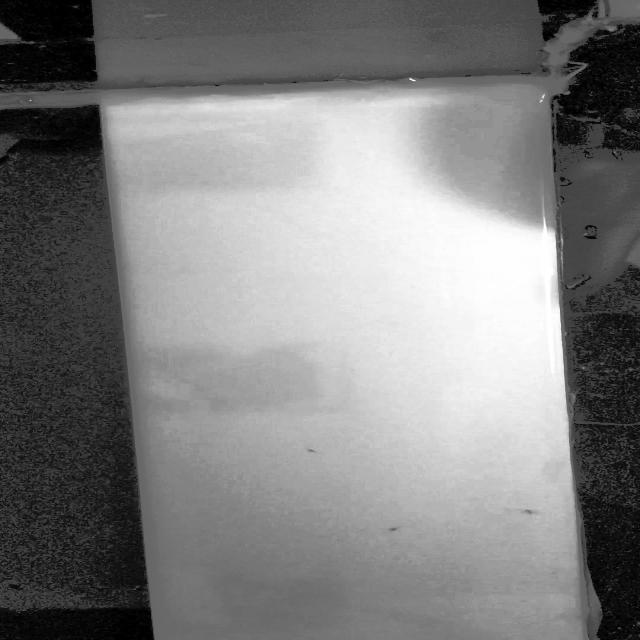shrimp: (501, 503, 546, 516), (378, 525, 408, 537), (302, 446, 330, 458)
